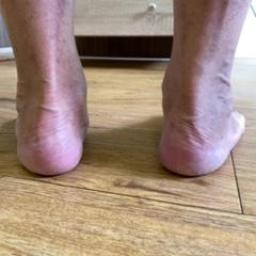Back View -Both Feet-: (1, 42, 250, 194)
